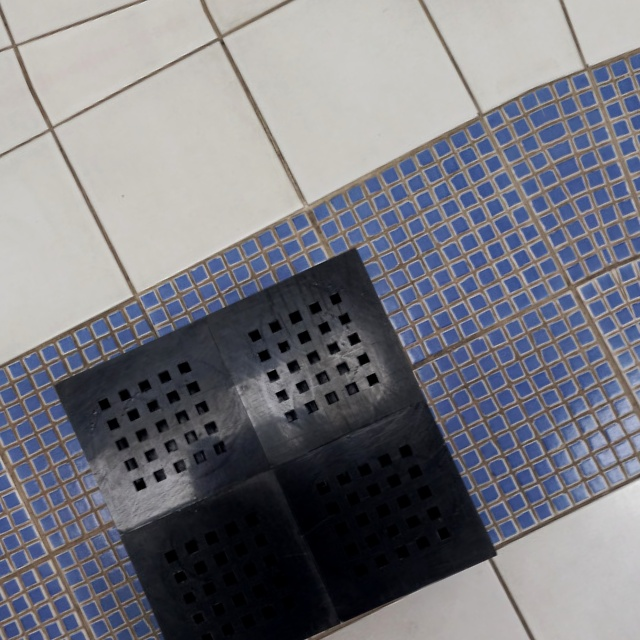pallet: (48, 241, 510, 638)
